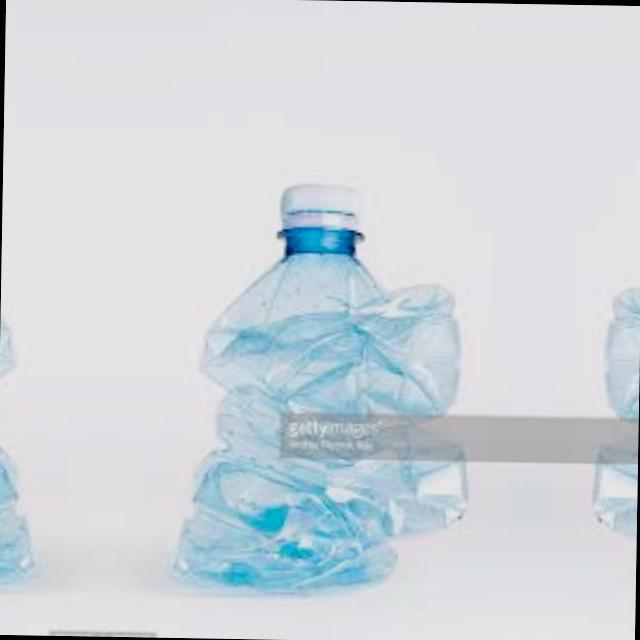Plastic: (150, 141, 487, 625), (575, 148, 640, 627), (0, 138, 62, 617)
